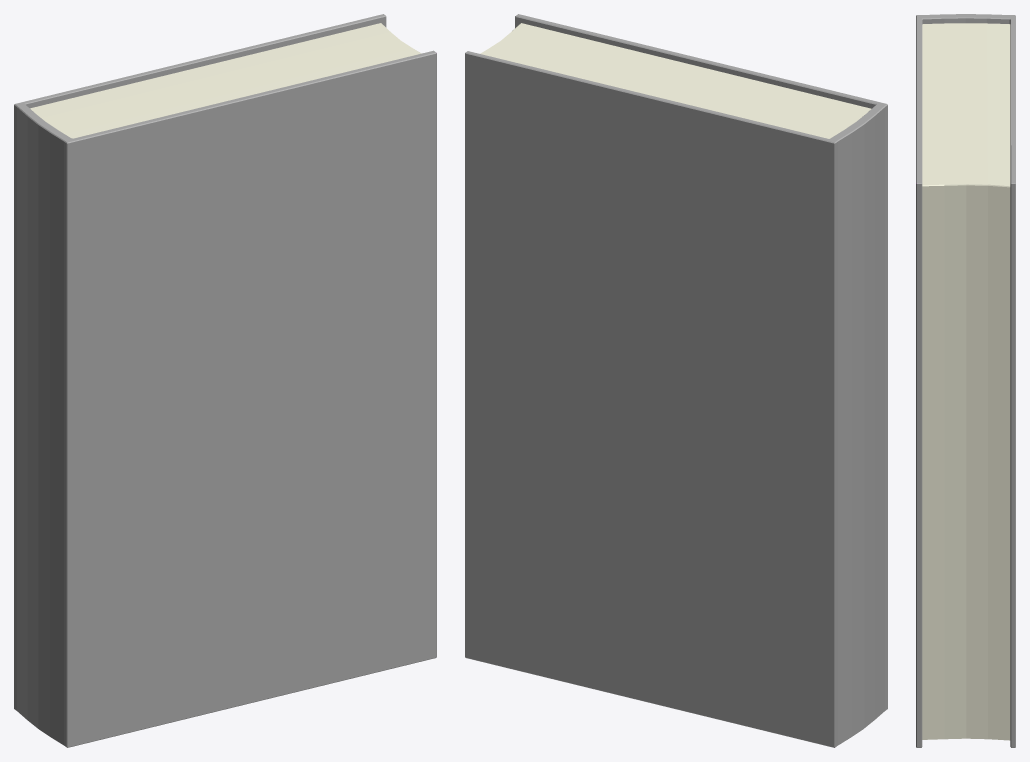
Rendered from book_v02.fbx.
3 renders of one model, left to right at view 1: azimuth 30°, elevation 25°; view 2: azimuth 150°, elevation 25°; view 3: azimuth 270°, elevation 25°, orthographic. The views are drawn at different scales.
Parts seen in each view (by area): view 1: Book; view 2: Book; view 3: Book.
Boxes of the visible parts, x1,y1,x2,y2 form: Book: (14,14,436,747); Book: (465,14,887,747); Book: (916,14,1015,747).
Bounding box in the file's own units: 16.1 × 25 × 4.
